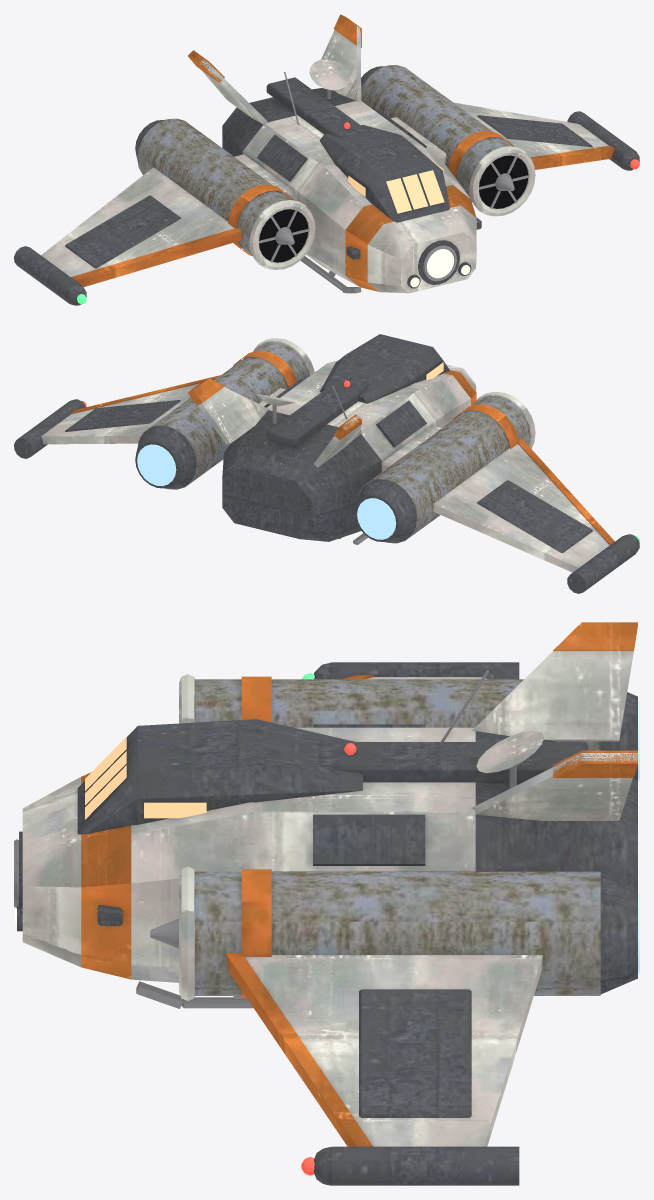
The model's file is rescue-one.glb.
3 views of the same model, one above another, from view 1: azimuth 30°, elevation 25°; view 2: azimuth 150°, elevation 25°; view 3: azimuth 270°, elevation 25° (orthographic). The views are drawn at different scales.
Visible parts, largest first — view 1: rescue__hull; view 2: rescue__hull; view 3: rescue__hull.
Boxes of the visible parts, box(x1,y1,x2,y2) form: rescue__hull: box(14, 14, 639, 305); rescue__hull: box(14, 334, 639, 593); rescue__hull: box(14, 622, 639, 1185).
Bounding box in the file's own units: 9.47 × 2.45 × 5.
7 materials, 1 textured.
